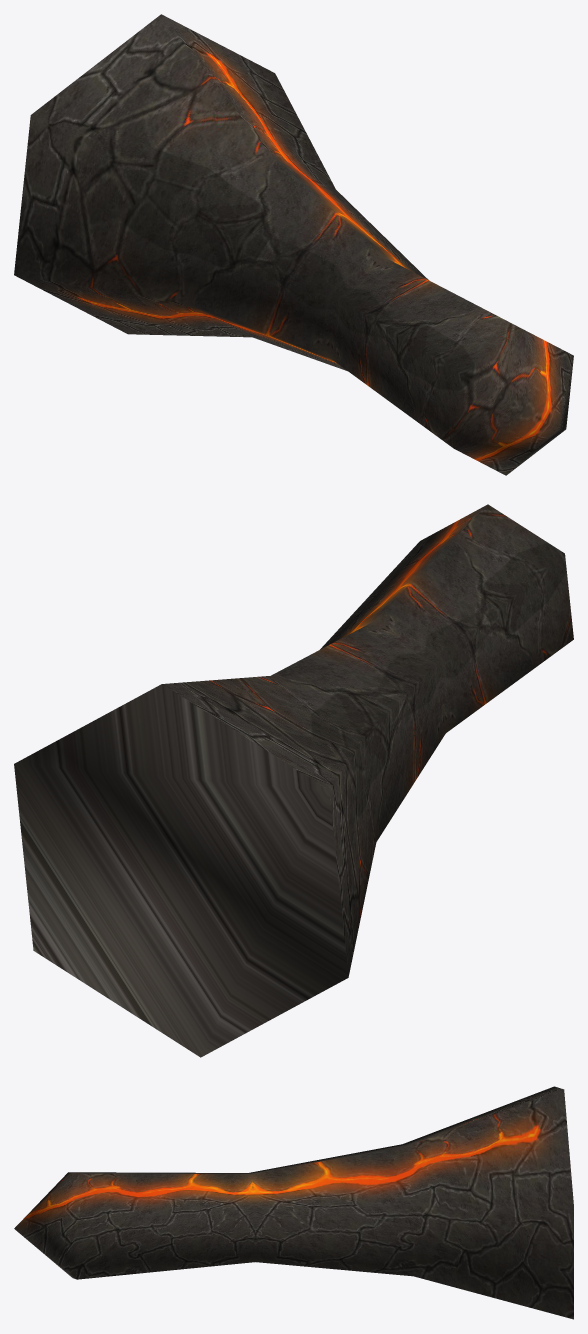
Rendered from stalagmite_15.obj.
The picture shows the model from 3 angles, top to bottom: view 1: azimuth 30°, elevation 25°; view 2: azimuth 150°, elevation 25°; view 3: azimuth 270°, elevation 25°; orthographic projection. The views are drawn at different scales.
Visible parts, largest first — view 1: (null); view 2: (null); view 3: (null).
Part boxes in pixels (x1=…): (null): x1=14, y1=14, x2=573, y2=475; (null): x1=14, y1=504, x2=573, y2=1057; (null): x1=14, y1=1086, x2=573, y2=1319.
Bounding box in the file's own units: 2.01 × 2.18 × 4.62.
